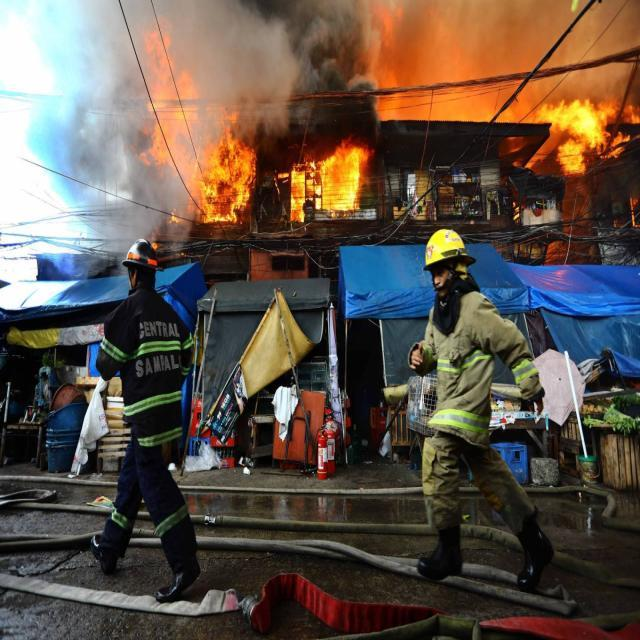Fire: (148, 16, 256, 232), (531, 94, 640, 183), (286, 138, 378, 223)
Smoke: (2, 2, 158, 246), (276, 1, 386, 138)
